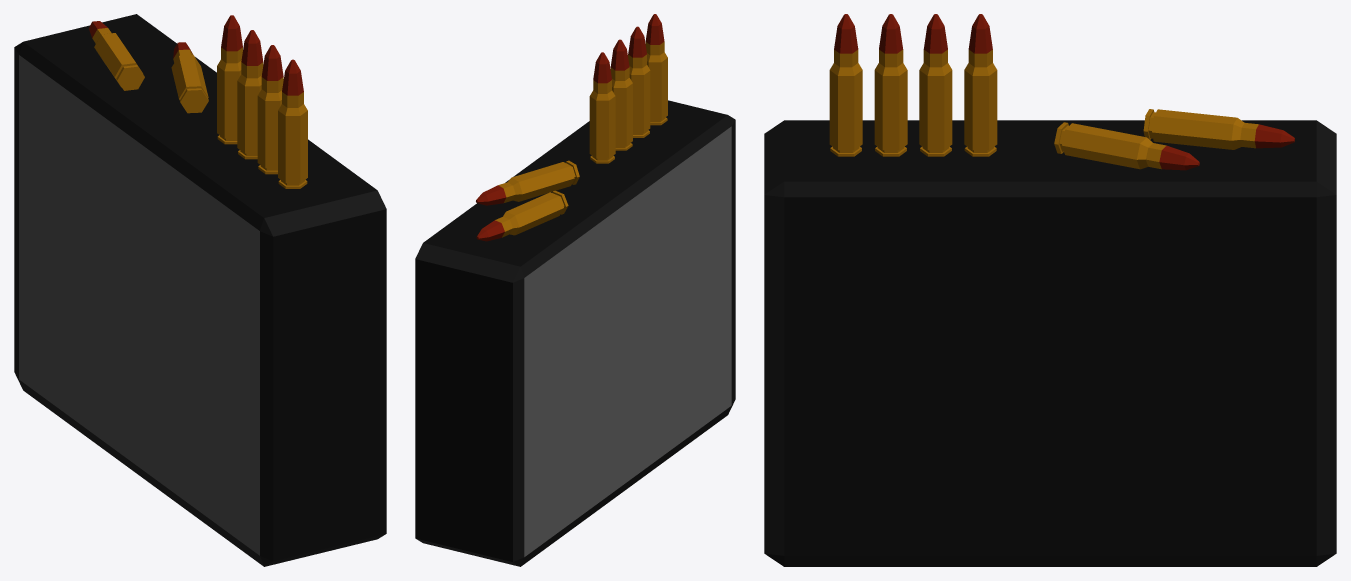
File: ammo_556.glb
The picture shows the model from 3 angles, left to right: view 1: azimuth 30°, elevation 25°; view 2: azimuth 150°, elevation 25°; view 3: azimuth 270°, elevation 25°; orthographic projection. The views are drawn at different scales.
Parts seen in each view (by area): view 1: item_ammo_556; view 2: item_ammo_556; view 3: item_ammo_556.
Part boxes in pixels (box(x1,y1,x2,y2)): item_ammo_556: box(14, 14, 386, 566); item_ammo_556: box(415, 14, 735, 566); item_ammo_556: box(764, 14, 1336, 566).
Size of the model in its own units: 0.0703 by 0.26 by 0.2585.
